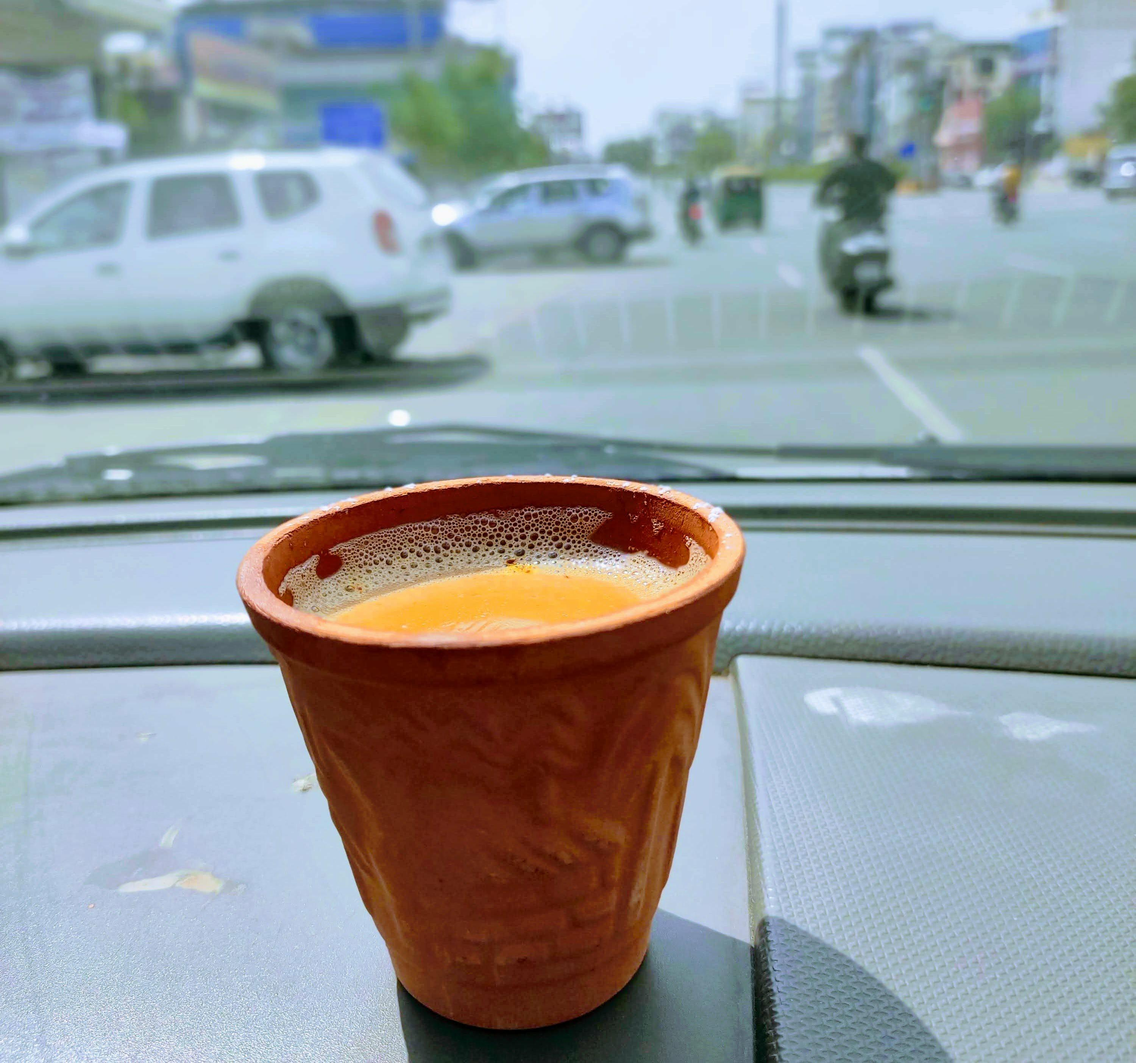Chai: (289, 544, 680, 647)
